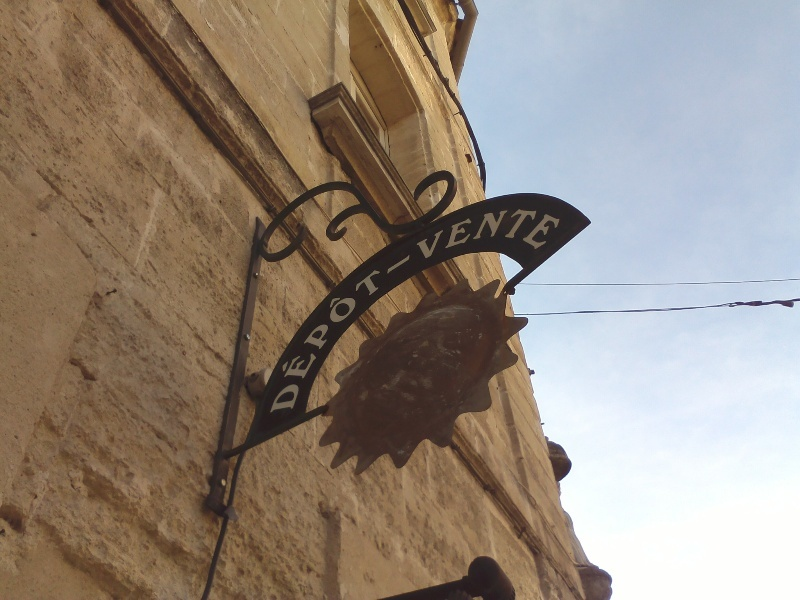text: (241, 257, 256, 425), (257, 257, 272, 425), (273, 257, 288, 425), (289, 257, 304, 425), (305, 257, 320, 425), (321, 257, 336, 425), (337, 257, 352, 425), (353, 257, 368, 425), (369, 257, 384, 425), (385, 257, 395, 425), (417, 200, 432, 260), (433, 200, 448, 260), (449, 200, 464, 260), (465, 200, 480, 260), (481, 200, 496, 260), (497, 200, 512, 260), (513, 200, 528, 260), (529, 200, 544, 260), (545, 200, 560, 260), (561, 200, 568, 260), (238, 257, 240, 425), (415, 200, 416, 260)
